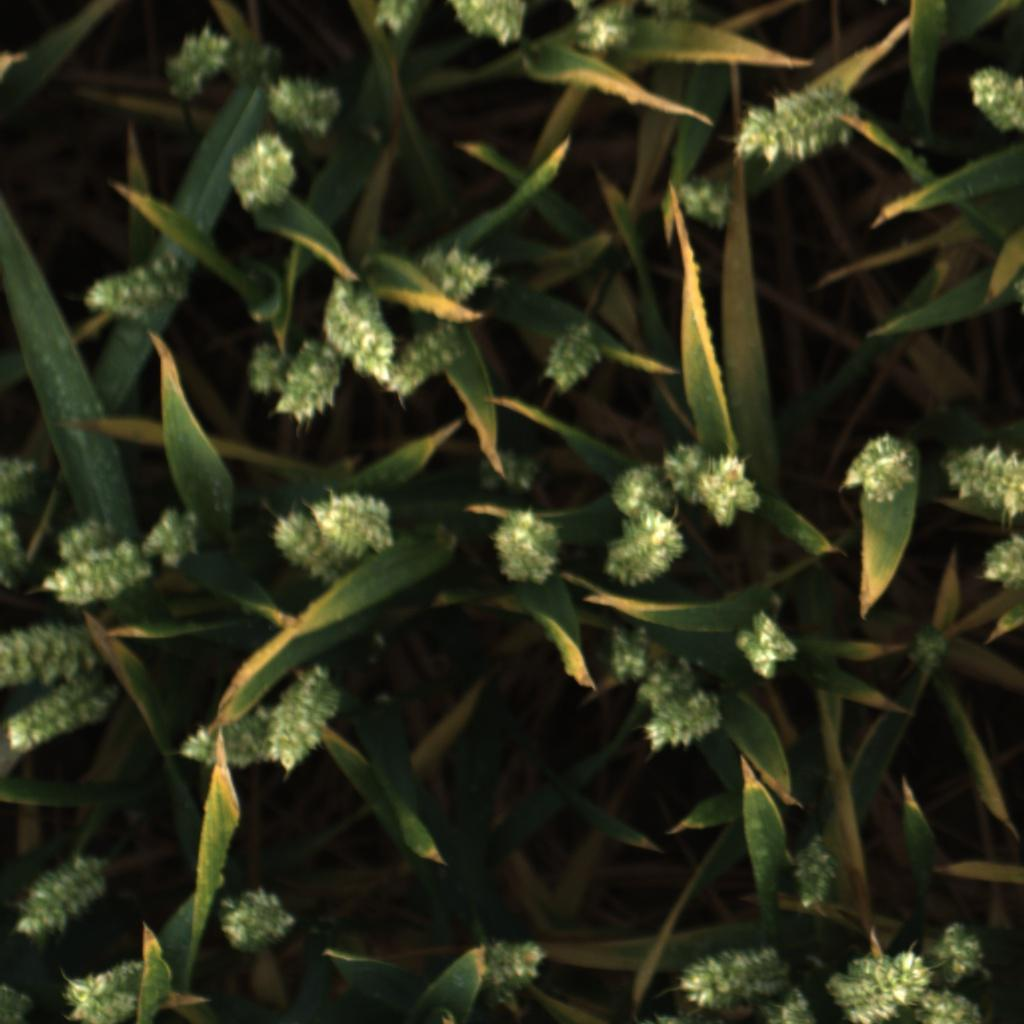0-0: (731, 86, 861, 173), (667, 937, 791, 1013), (8, 673, 124, 754), (13, 845, 107, 943), (76, 252, 190, 329), (324, 267, 399, 382), (265, 666, 344, 775), (831, 948, 931, 1024), (209, 879, 300, 961), (4, 619, 113, 687), (490, 503, 570, 589), (601, 509, 689, 587), (388, 316, 470, 399), (223, 128, 300, 216), (44, 545, 149, 609), (842, 425, 924, 506), (271, 329, 338, 425), (57, 956, 150, 1024), (268, 506, 344, 589), (318, 480, 400, 556), (163, 20, 236, 105), (945, 439, 1024, 516), (264, 70, 354, 137), (480, 932, 550, 1016), (46, 501, 125, 572), (178, 712, 269, 773), (698, 450, 763, 534), (648, 429, 720, 504), (538, 318, 605, 398), (645, 688, 725, 755), (961, 62, 1024, 146), (730, 608, 800, 682), (233, 325, 299, 403), (893, 616, 966, 682), (146, 500, 211, 572), (432, 236, 501, 303), (607, 454, 673, 523), (565, 0, 637, 63), (788, 831, 839, 916), (442, 0, 532, 48), (931, 916, 993, 984), (676, 172, 738, 236), (634, 658, 698, 711), (600, 616, 652, 676), (977, 527, 1024, 592), (475, 447, 544, 490), (921, 990, 991, 1024), (0, 513, 30, 589), (766, 983, 821, 1024), (0, 455, 38, 504), (372, 0, 415, 33)
